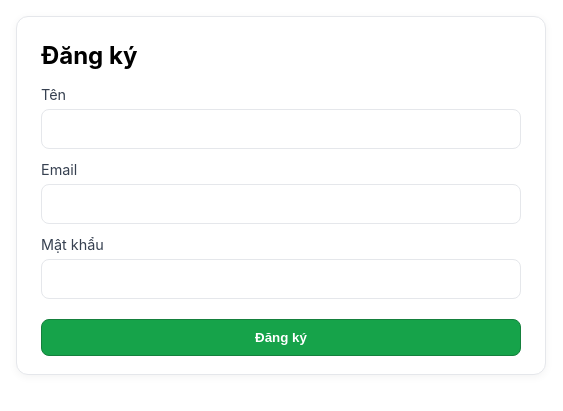
it: Register page › shows error on 400 status
In the field labelled "Tên": (281, 129) [41,109,521,149], type "Trump"
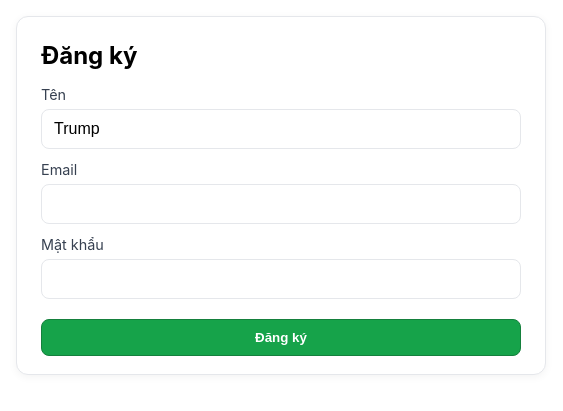
In the field labelled "Email": (281, 204) [41,184,521,224], type "Trump@example.com"
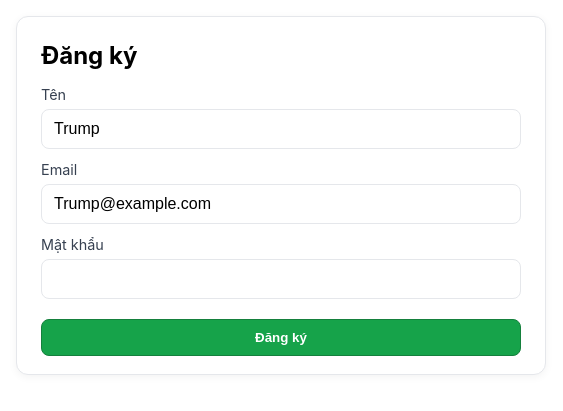
In the password field labelled "Mật khẩu": (281, 279) [41,259,521,299], type "secret"
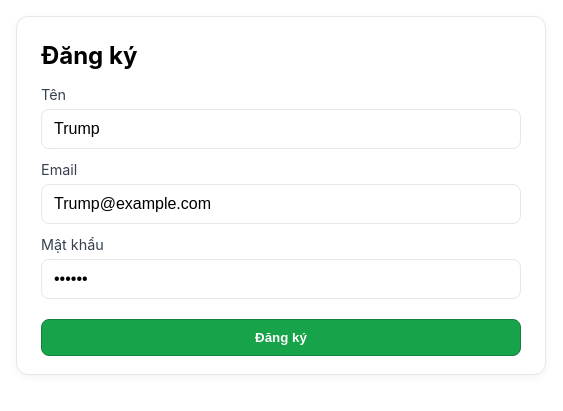
Click the button "Đăng ký": click(281, 338) [41,319,521,356]
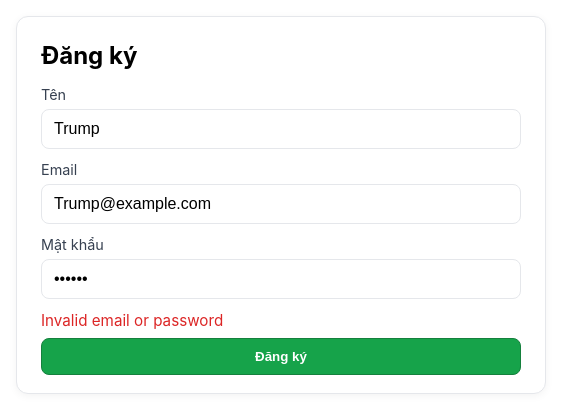
Check: the text "Invalid email or password" is shown, box [41,311,223,330]
